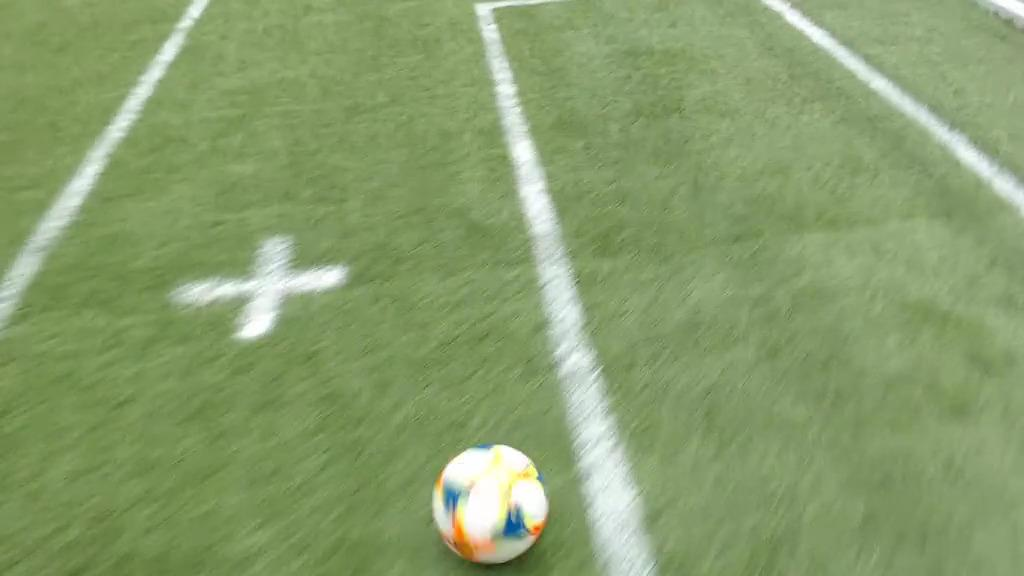ball: (433, 442, 548, 564)
